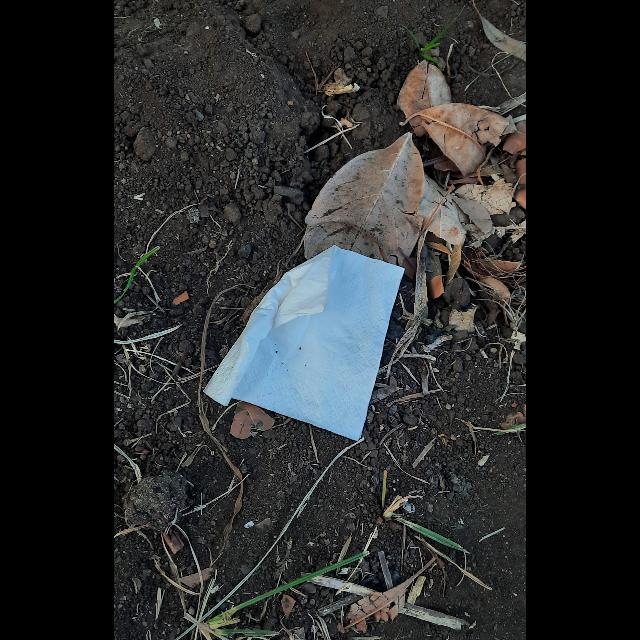trash: (202, 244, 406, 442)
